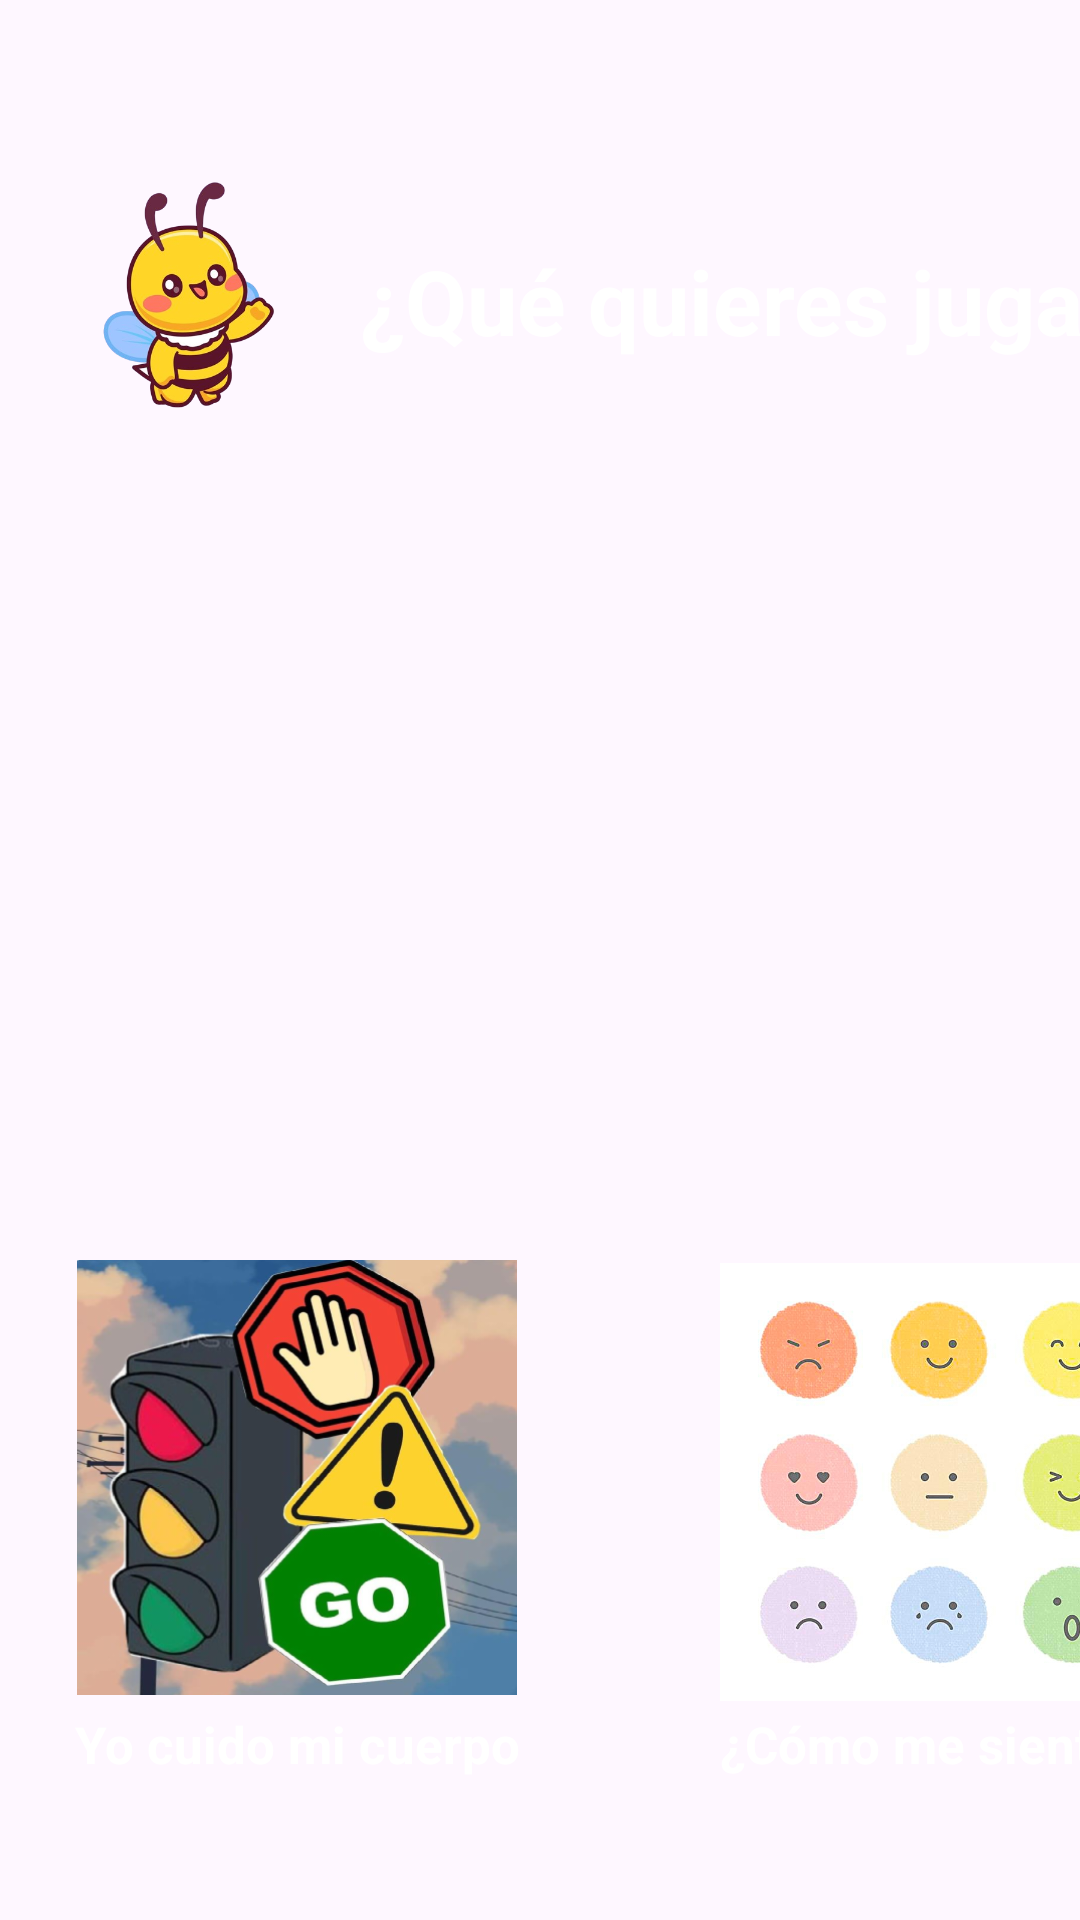

Screen size 1080px×1920px. Icon name, then its center in pixels as point (x, y):
abeja: point (188, 295)
